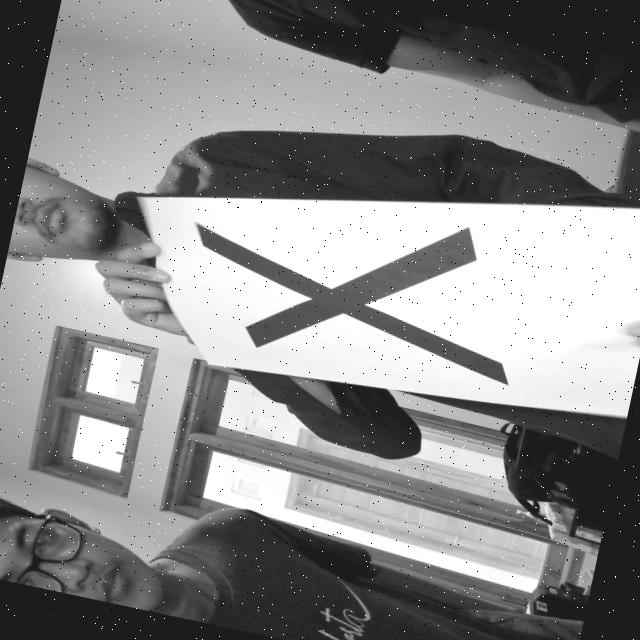x: (160, 156, 544, 421)
